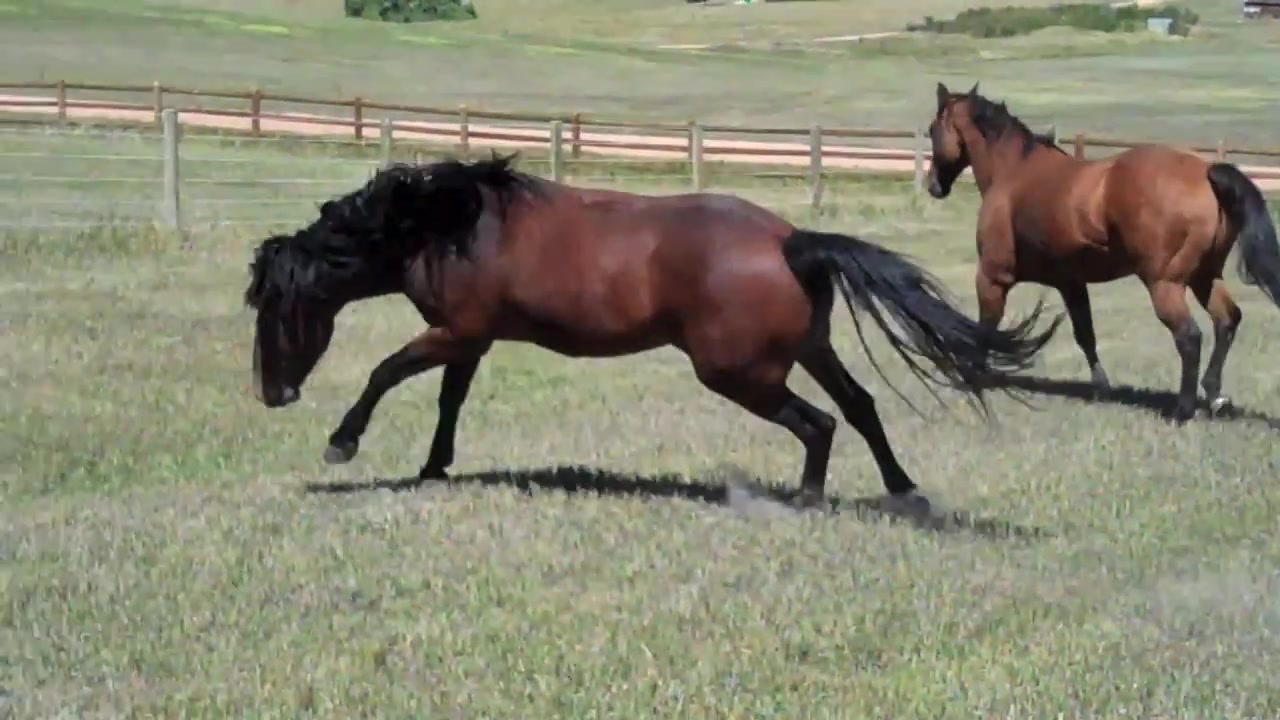horse: (243, 155, 1061, 521), (927, 82, 1280, 427)
